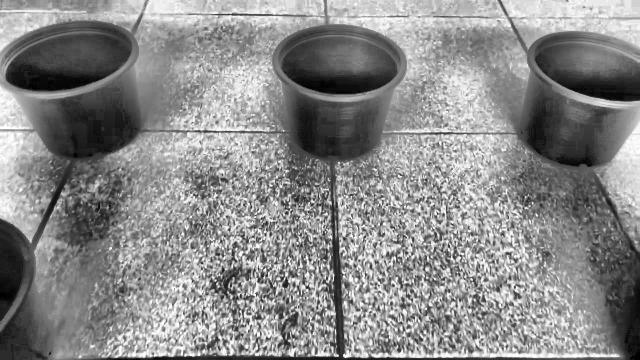pot: (0, 22, 142, 159), (272, 26, 406, 160), (518, 31, 640, 168)
